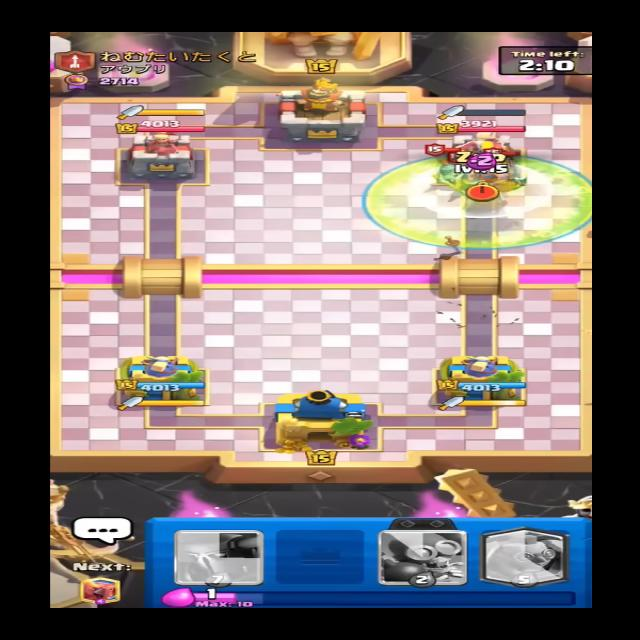guards: (428, 156, 463, 188)
